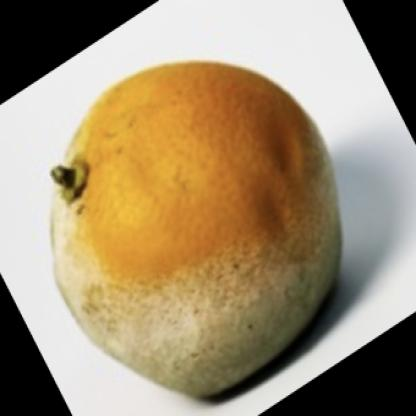rotten: (52, 60, 342, 398)
